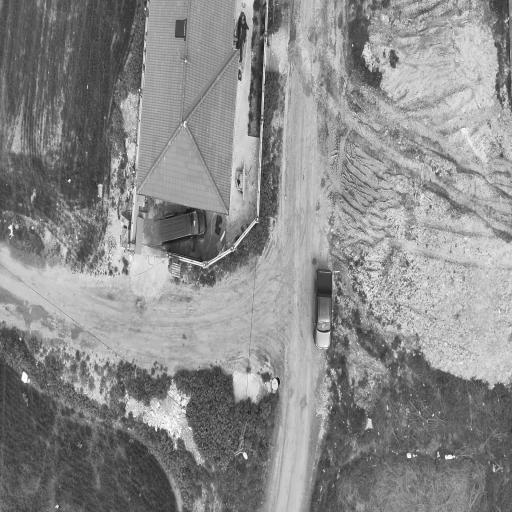car: (162, 208, 206, 243), (314, 269, 332, 348)
